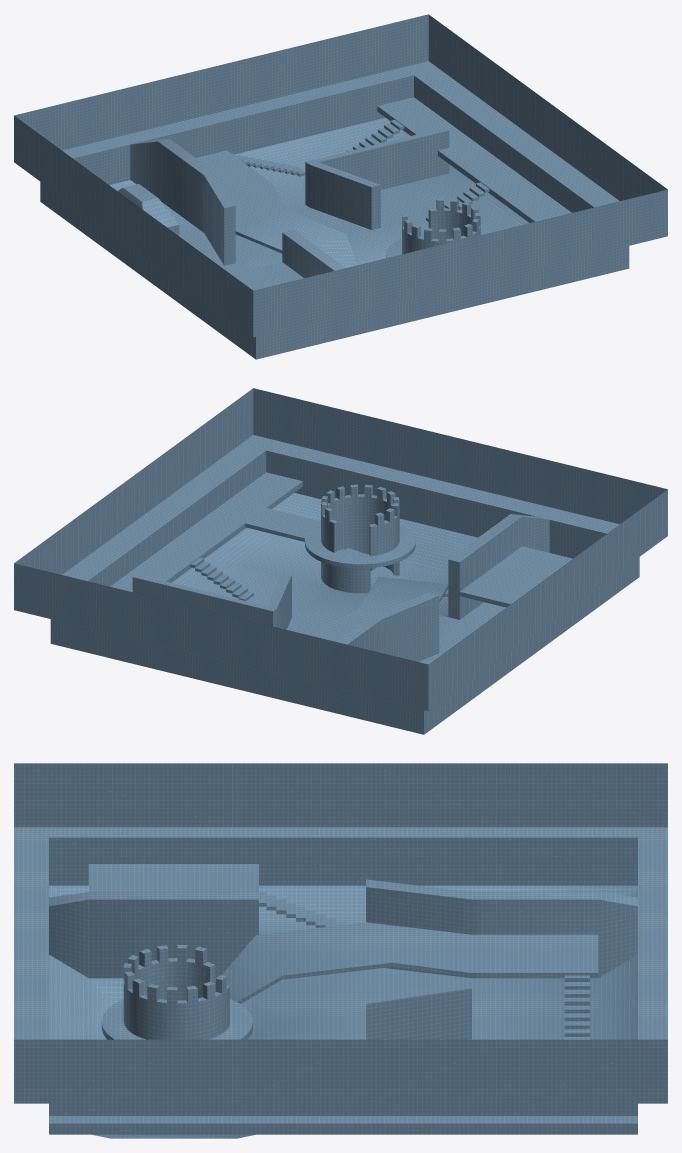
Rendered from collision-world.gltf.
The picture shows the model from 3 angles, top to bottom: view 1: azimuth 30°, elevation 25°; view 2: azimuth 150°, elevation 25°; view 3: azimuth 270°, elevation 25°; orthographic projection. The views are drawn at different scales.
Parts seen in each view (by area): view 1: Cube.004; view 2: Cube.004; view 3: Cube.004.
Boxes of the visible parts, x1,y1,x2,y2 form: Cube.004: [14, 14, 667, 359]; Cube.004: [14, 388, 667, 734]; Cube.004: [14, 763, 667, 1138].
Bounding box in the file's own units: 34.36 × 8.6 × 34.36.
1 material, 1 textured.
